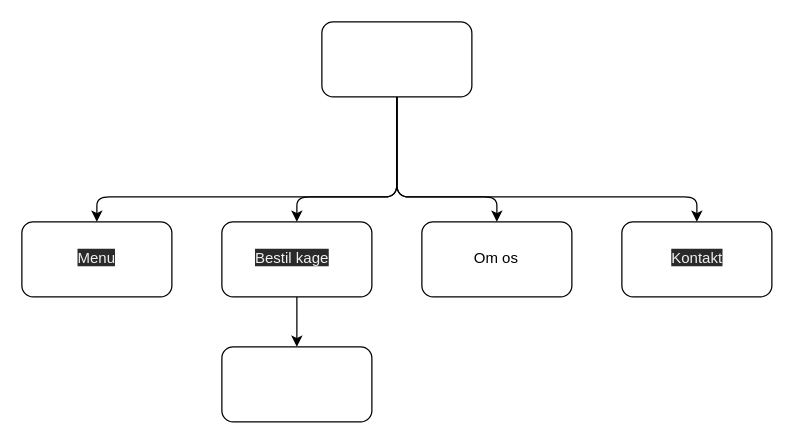
The diagram is 794 pixels wide and 444 high, and some of its shapes have lost their labels. The shapes that lost their labels are listed below. From the top down, each one's box as (x1, y1, x2, y2) in pixels, then its label:
(321, 21, 472, 97): Forside
(221, 346, 372, 422): Produktvisning
